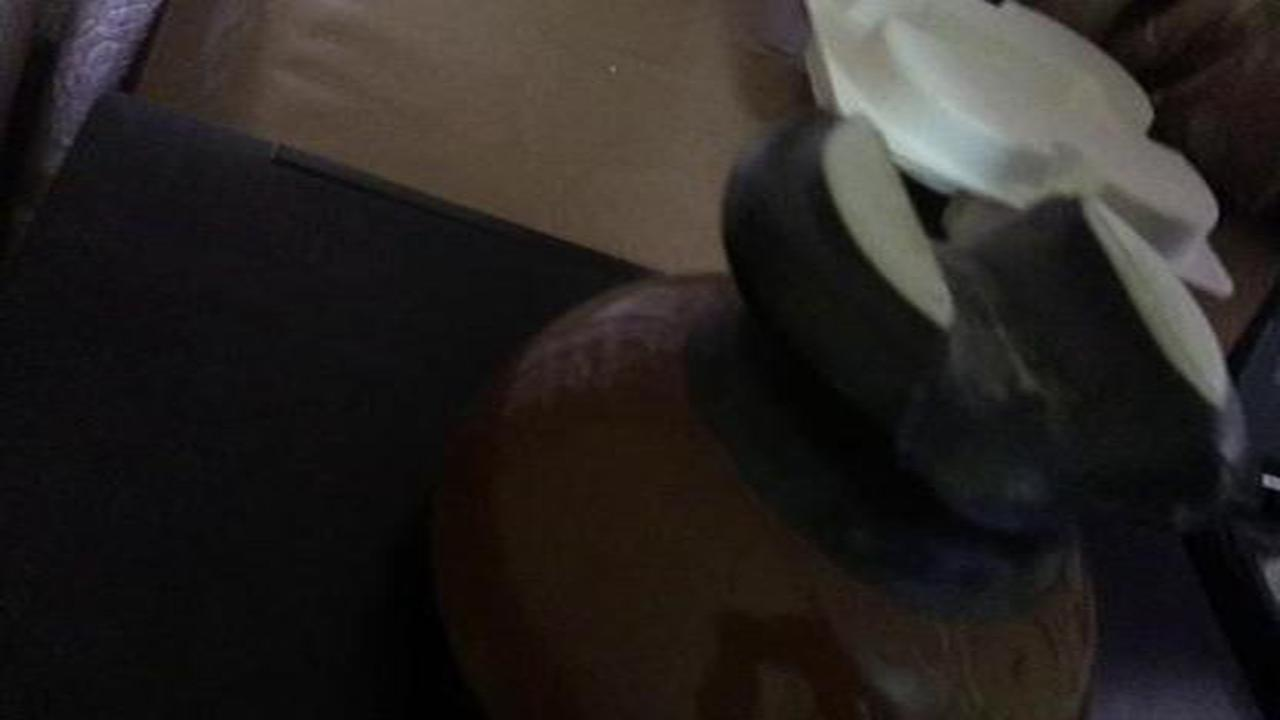insulator_pin: (413, 104, 1271, 707)
